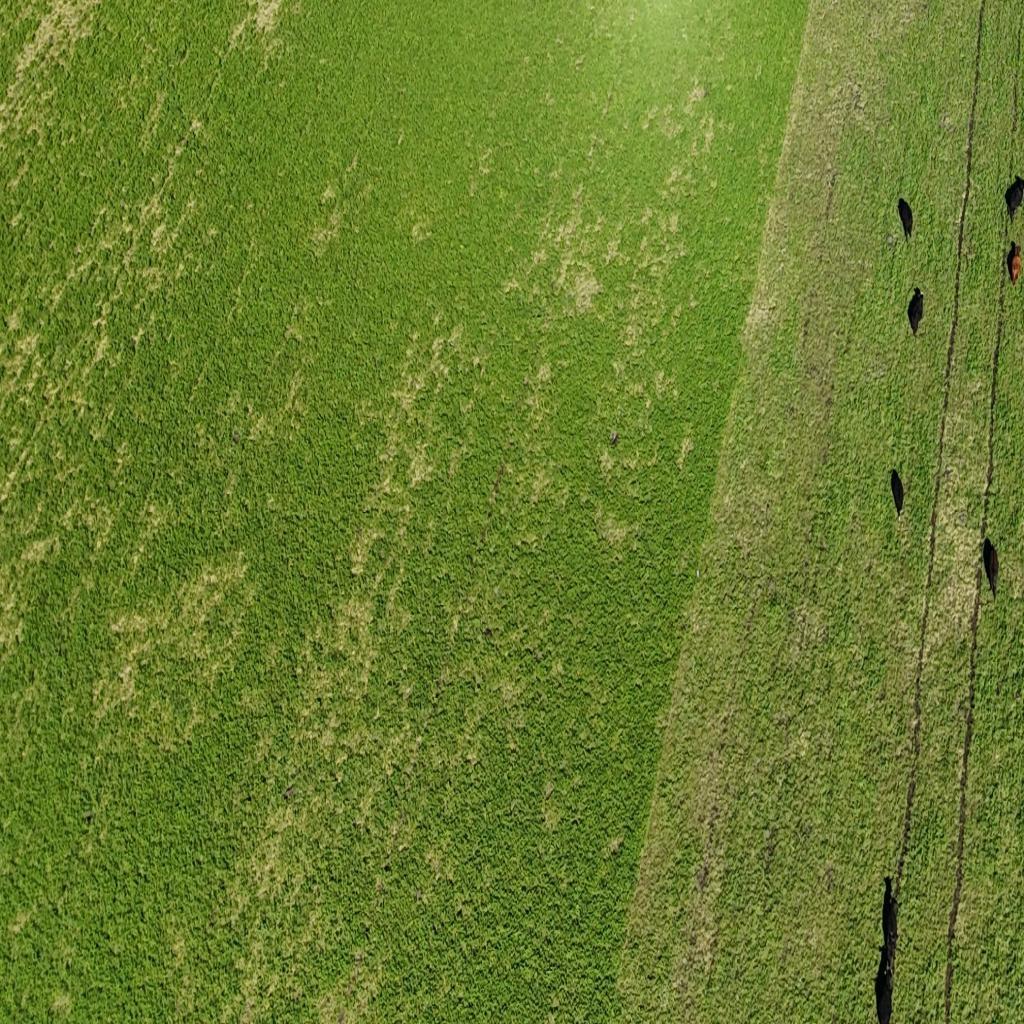cow: (876, 968, 894, 1024), (983, 537, 999, 600), (1004, 178, 1024, 224), (908, 286, 924, 337), (890, 468, 904, 518), (898, 196, 913, 242), (882, 936, 898, 970), (1011, 244, 1022, 284), (887, 898, 899, 934)
